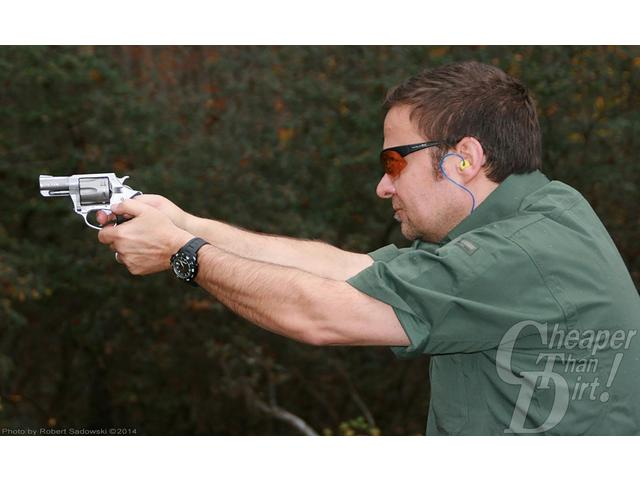pistol: (36, 173, 144, 266)
